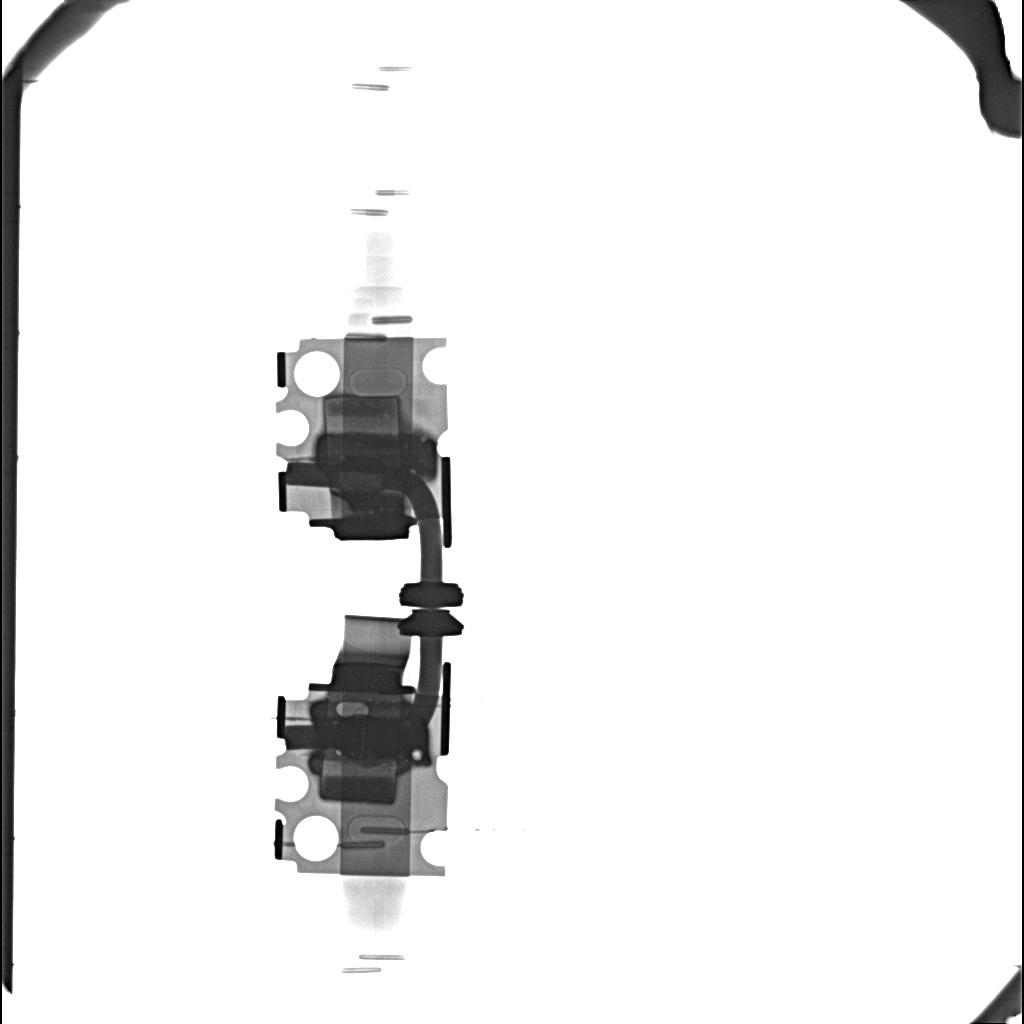PX: (319, 760, 398, 806), (322, 394, 401, 432)
QP: (335, 701, 368, 718)
SX: (318, 434, 436, 479), (315, 717, 426, 755)
